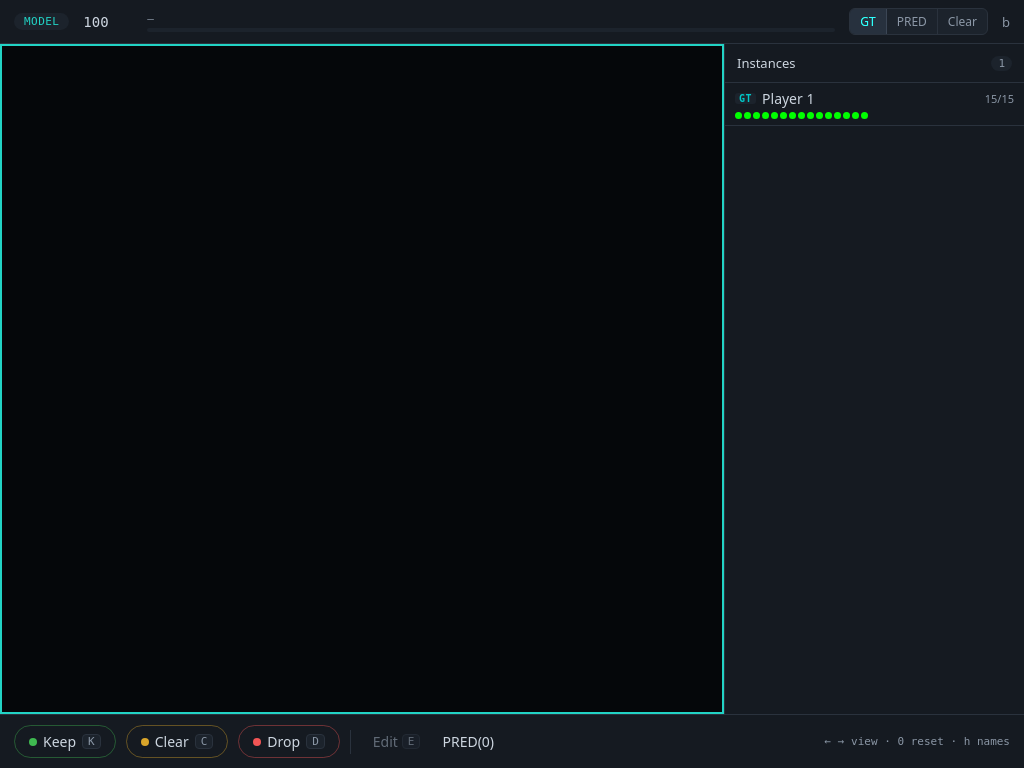
Test: ReviewView › keeps the editor open and shows an error when an edit save fails
Type keys "e"
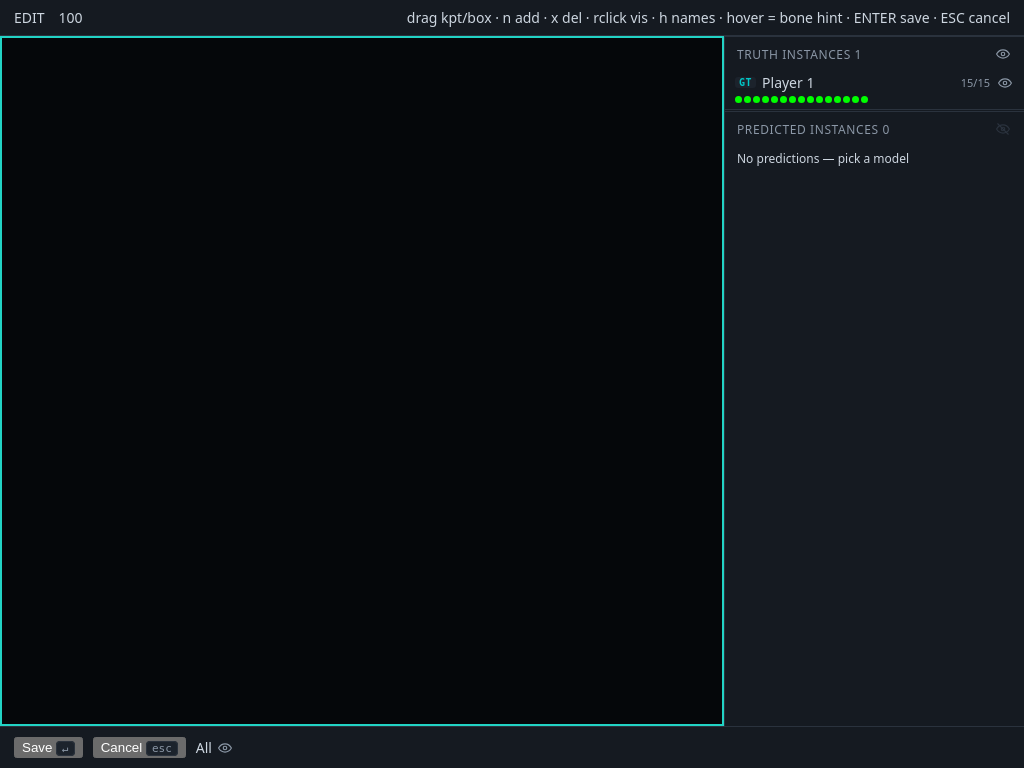
Click the button "Save ↵". click: (48, 748)
box: [14,737,83,758]
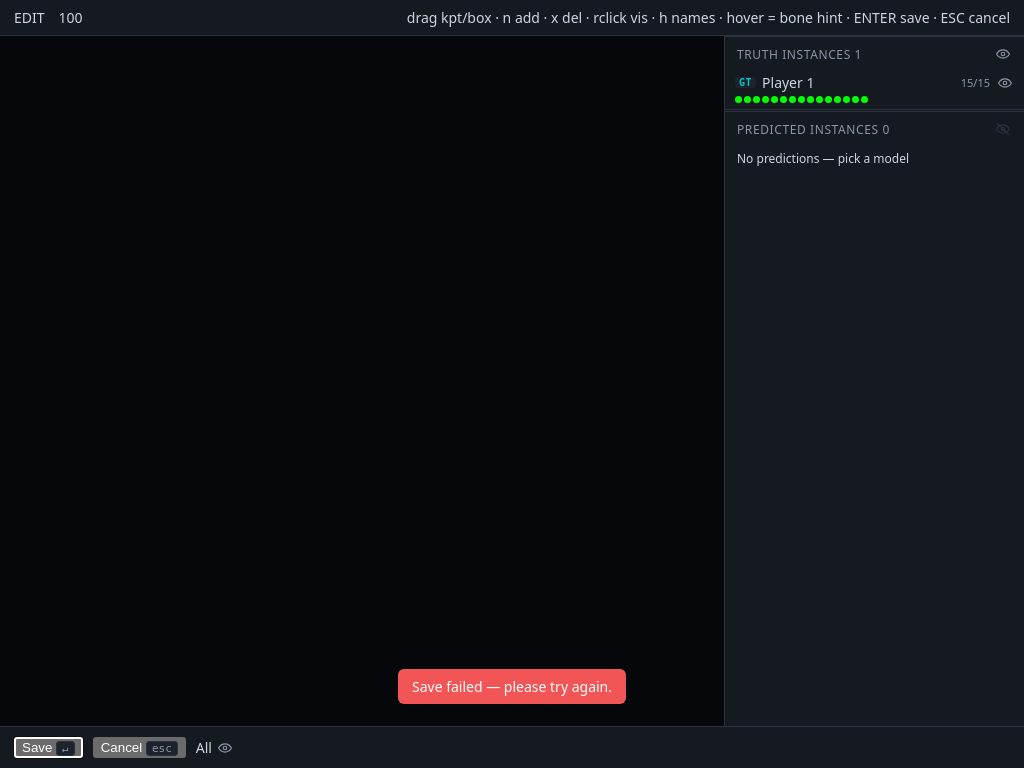
Result: the button "Save ↵" is shown at [14,737,83,758]
Result: the text "Save failed — please try again." is shown at [398,669,626,704]
